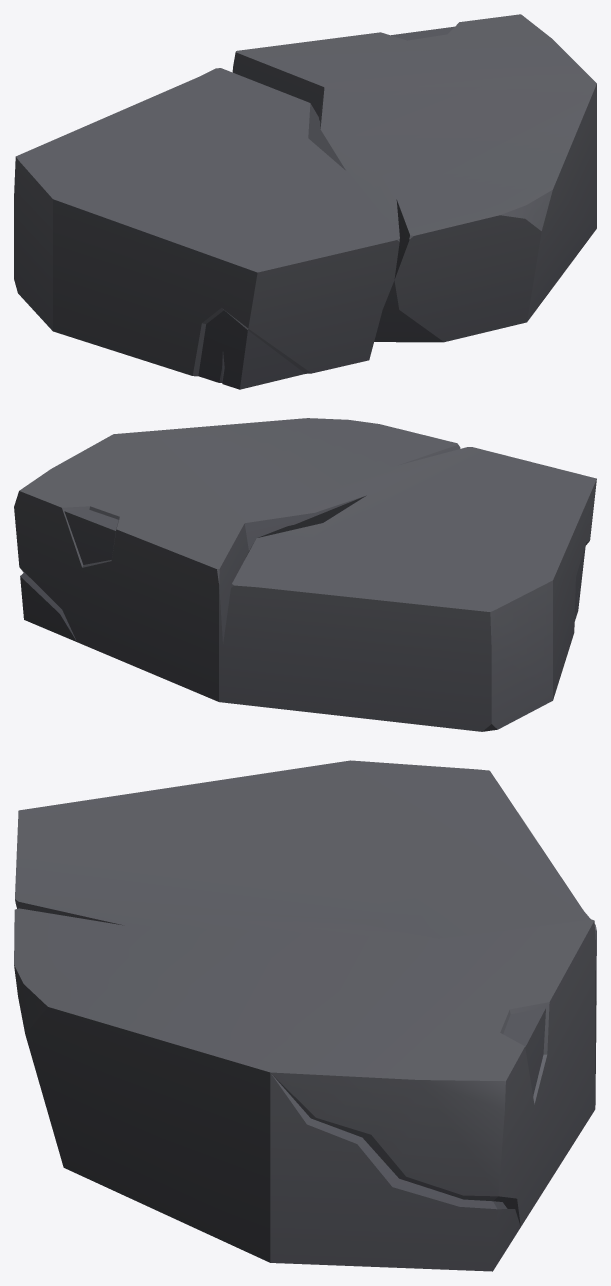
The model's file is BigRock_05.fbx.
3 renders of one model, top to bottom at view 1: azimuth 30°, elevation 25°; view 2: azimuth 150°, elevation 25°; view 3: azimuth 270°, elevation 25°, orthographic. The views are drawn at different scales.
Visible parts, largest first — view 1: BigRock_05_LOD0; view 2: BigRock_05_LOD0; view 3: BigRock_05_LOD0.
Part boxes in pixels (x1,y1,x2,y2): BigRock_05_LOD0: (14,14,596,389); BigRock_05_LOD0: (14,418,596,731); BigRock_05_LOD0: (14,760,596,1271).
Size of what is drawn, in the model's own units: 6.5 by 1.69 by 4.69.
